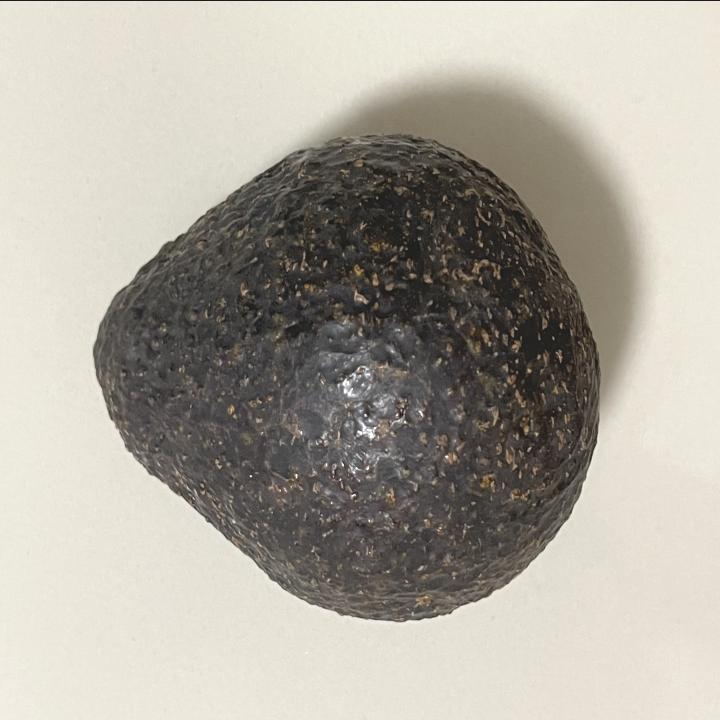Level3: (84, 122, 610, 631)
